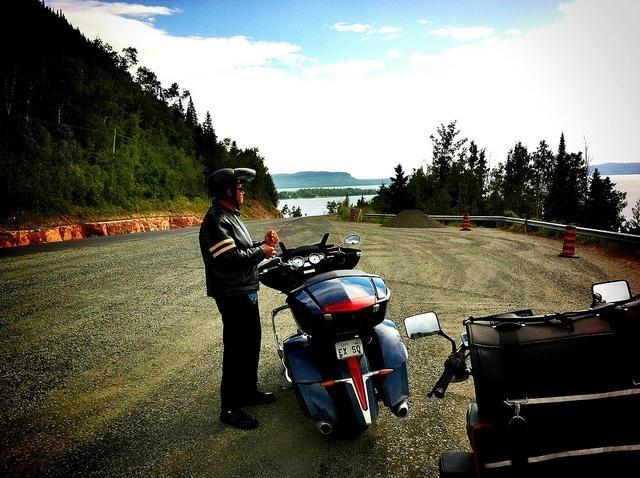motorcycle: (403, 280, 640, 476), (255, 231, 412, 434)
